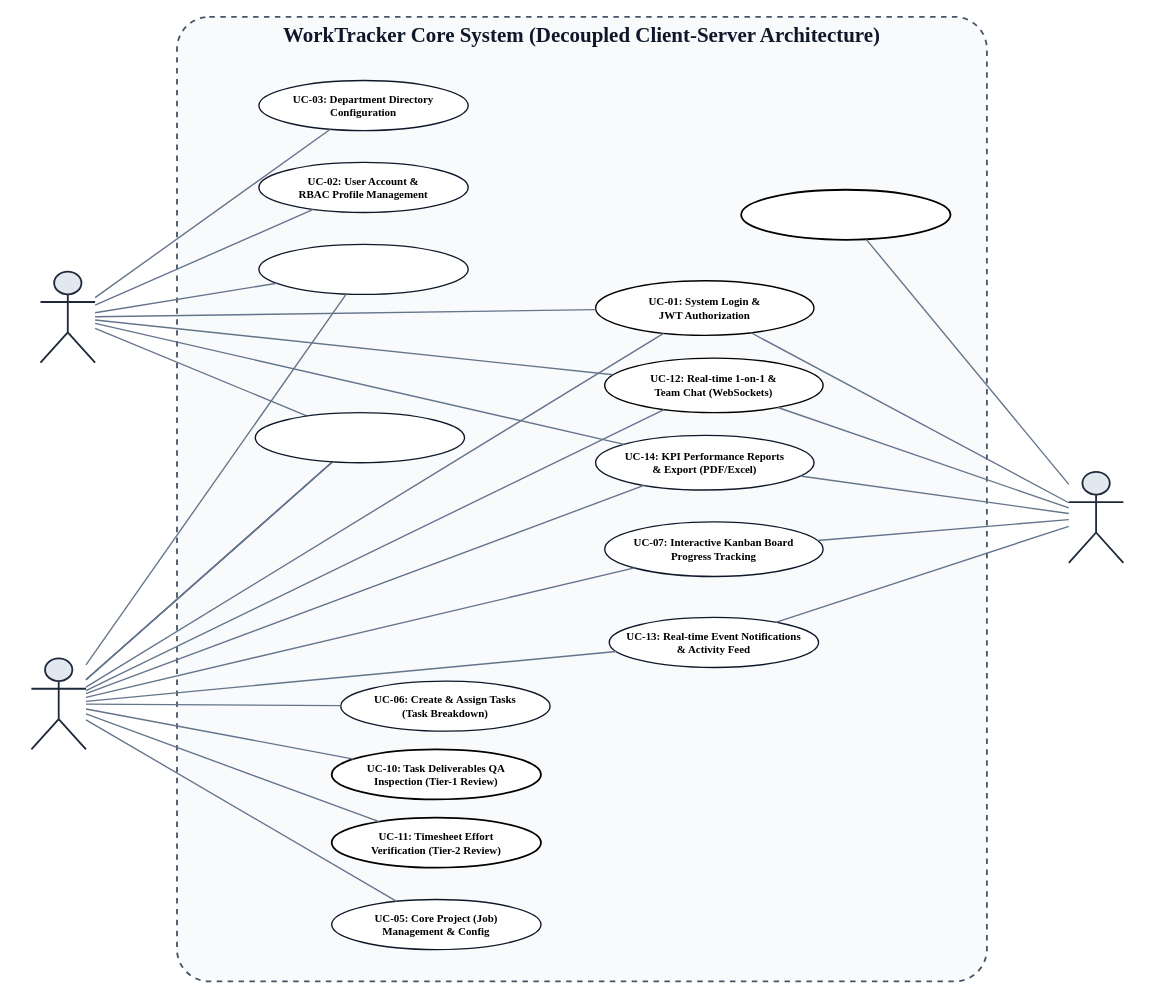
Image size: 1156x997. Some labels were removed from this diagram. Here are the shapes that lost their labels. From the top down, the centre of each, then its label:
At pixel 845 214: "UC-08: Daily Work Hours Logging (Log Work Entry)".
At pixel 363 269: "UC-09: Timesheet Period Lock & Unlock (Time Lock)".
At pixel 67 316: "Administrator (Admin)".
At pixel 359 437: "UC-04: Client & Partner Directory Management".
At pixel 1095 516: "Department Staff (Employee)".
At pixel 58 703: "Project Manager (Manager)".
